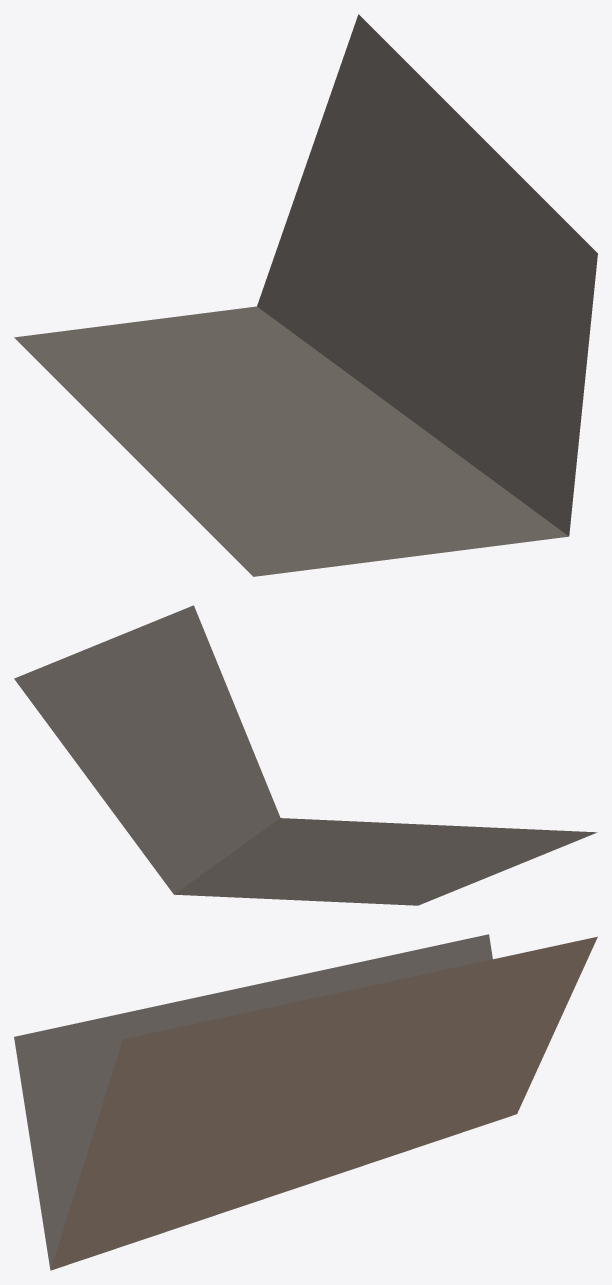
File: KOUI01.glb
The picture shows the model from 3 angles, top to bottom: view 1: azimuth 30°, elevation 25°; view 2: azimuth 150°, elevation 25°; view 3: azimuth 270°, elevation 25°; orthographic projection. The views are drawn at different scales.
Parts seen in each view (by area): view 1: FRAME_ROOT; view 2: FRAME_ROOT; view 3: FRAME_ROOT.
Part boxes in pixels (bbox=[...]): FRAME_ROOT: bbox=[14, 14, 597, 576]; FRAME_ROOT: bbox=[14, 605, 597, 905]; FRAME_ROOT: bbox=[14, 934, 597, 1270].
Bounding box in the file's own units: 10.34 × 7.8 × 11.6.
1 material, 1 textured.
